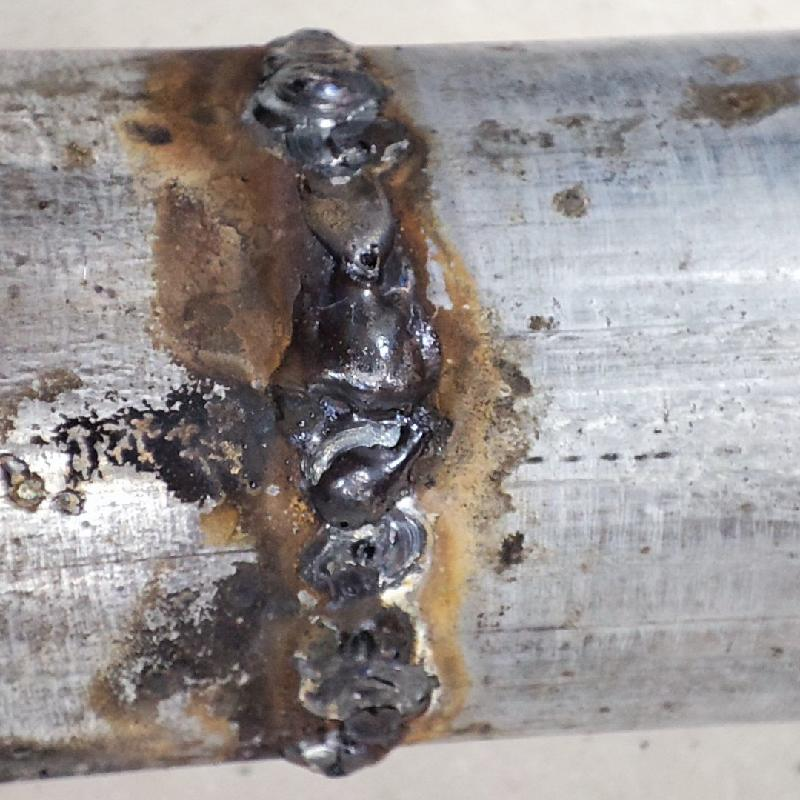Not_fully_soldered: (299, 530, 438, 715), (281, 125, 413, 285)
Surface_pores: (340, 226, 393, 276), (331, 510, 353, 537)
Weld: (273, 285, 451, 530)
wrong_size: (248, 25, 386, 125)
